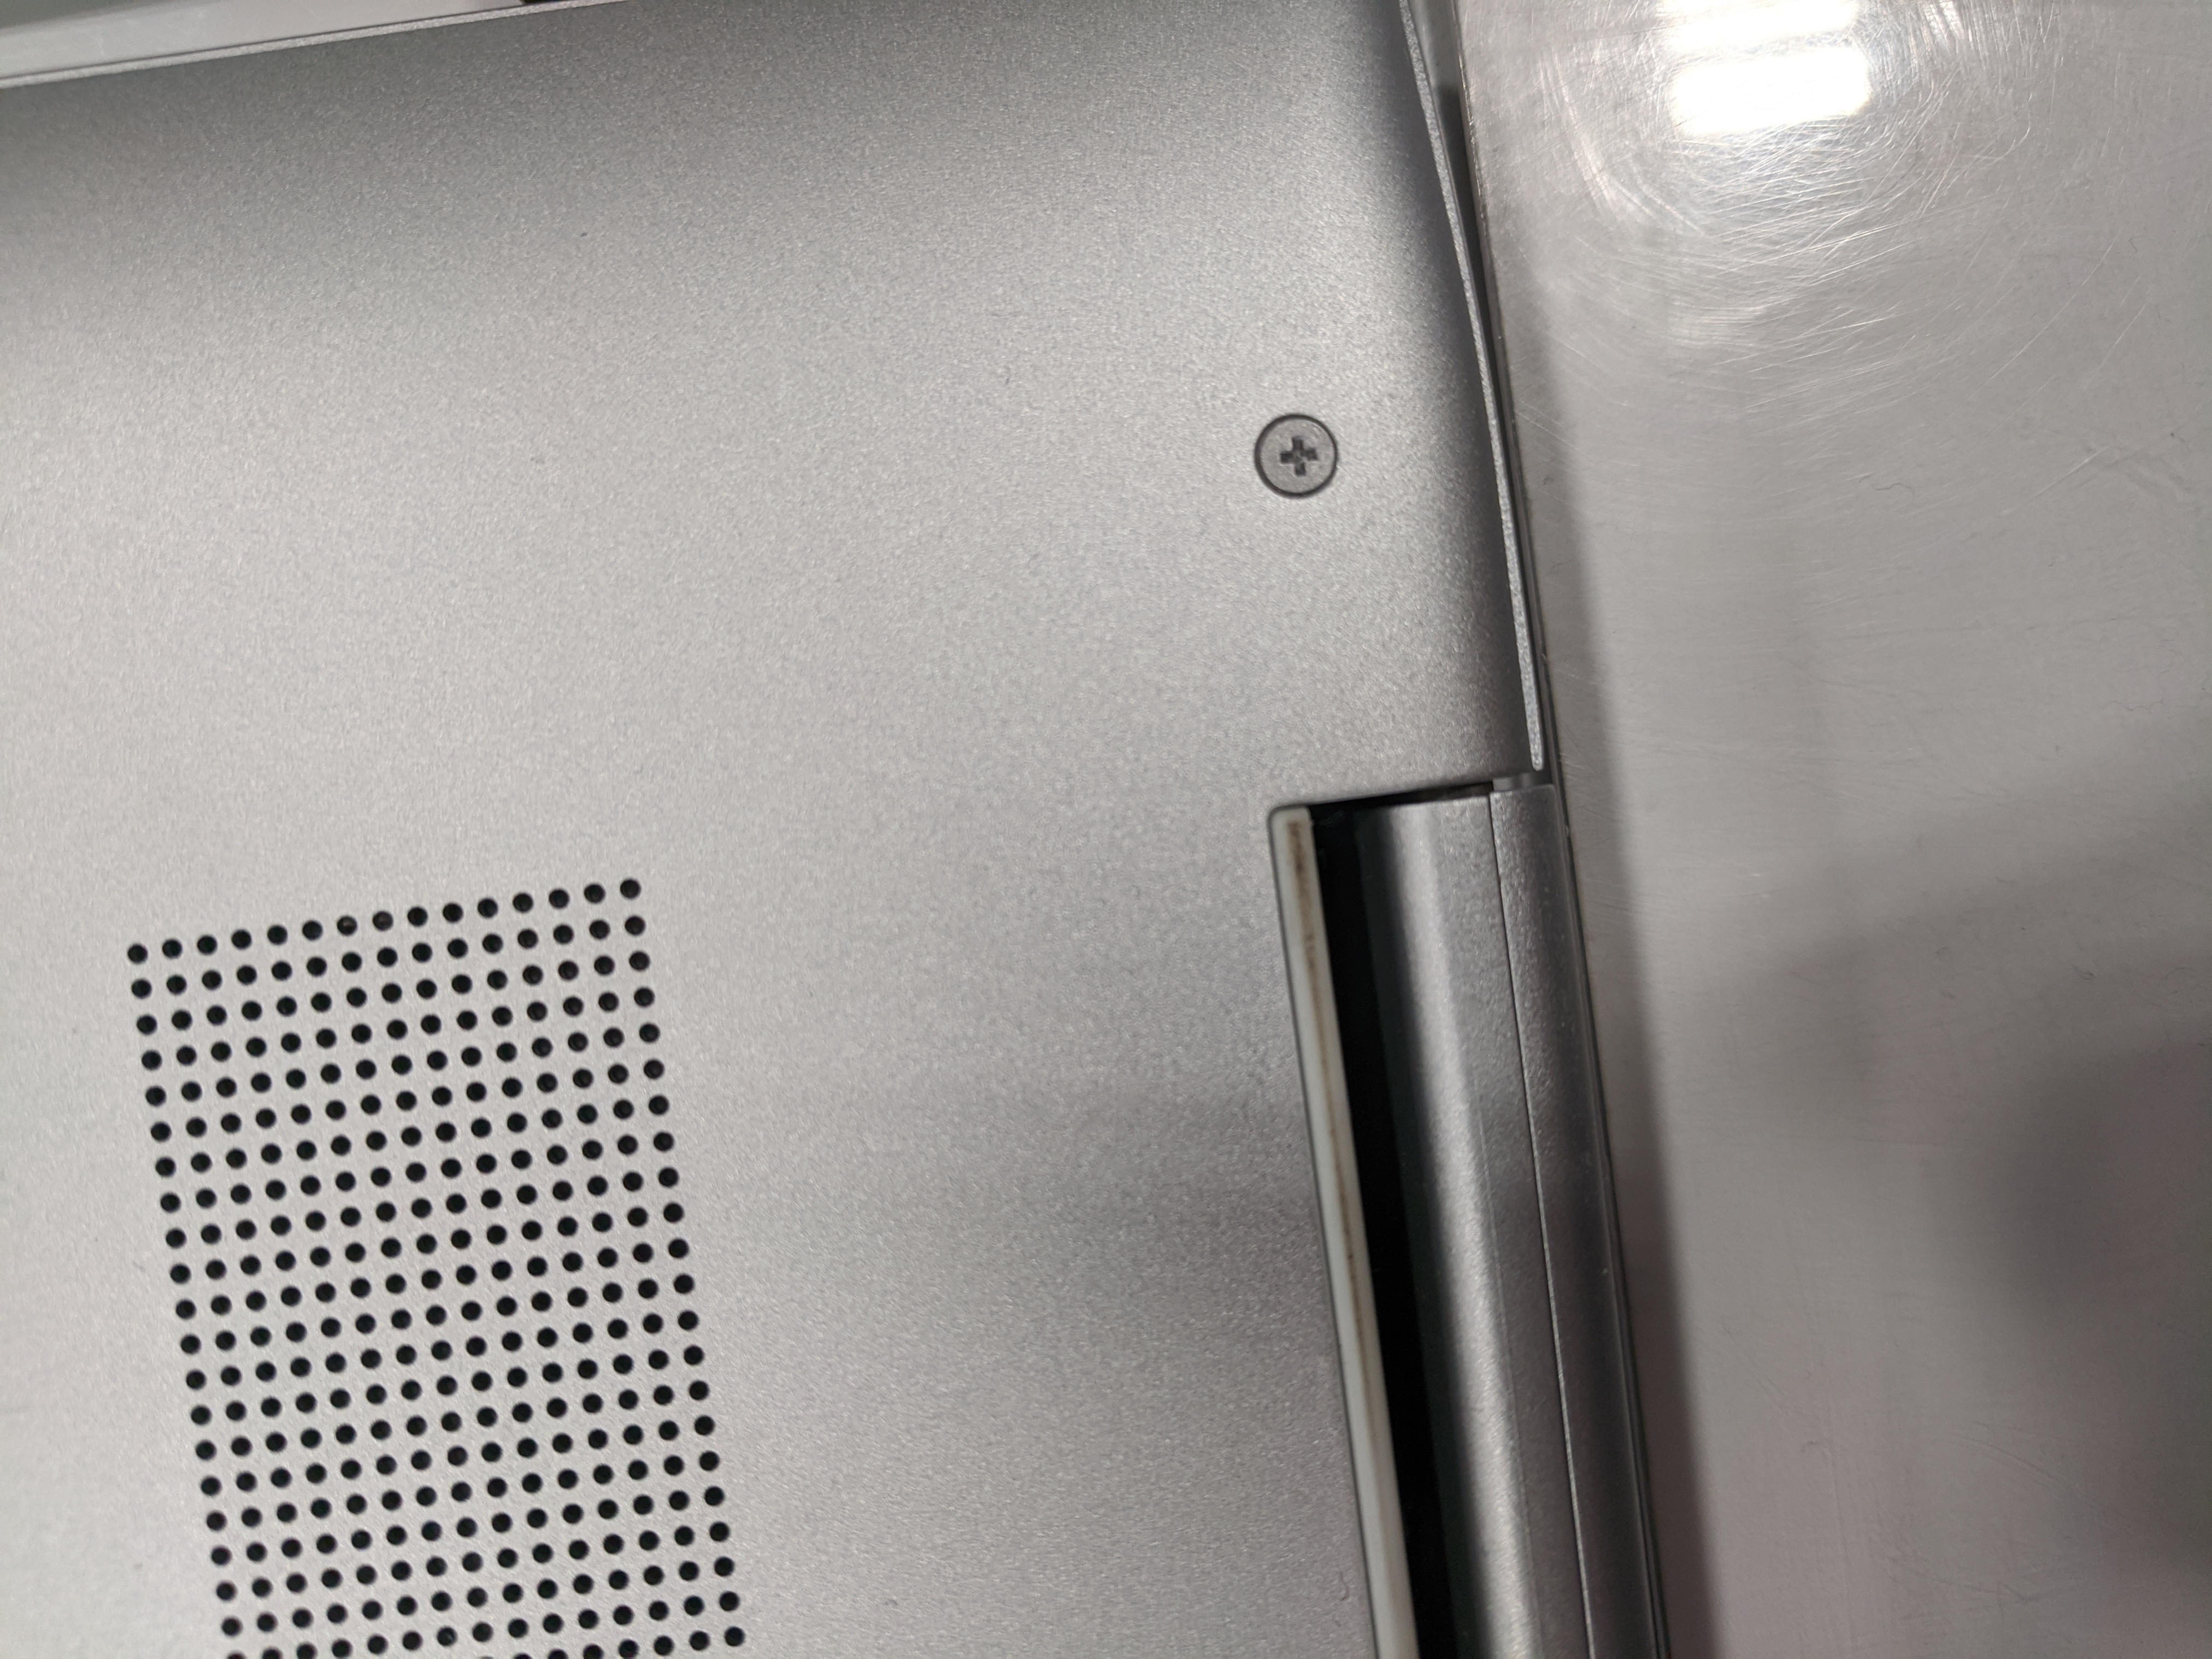cross_recessed_screw: (1244, 403, 1357, 504)
